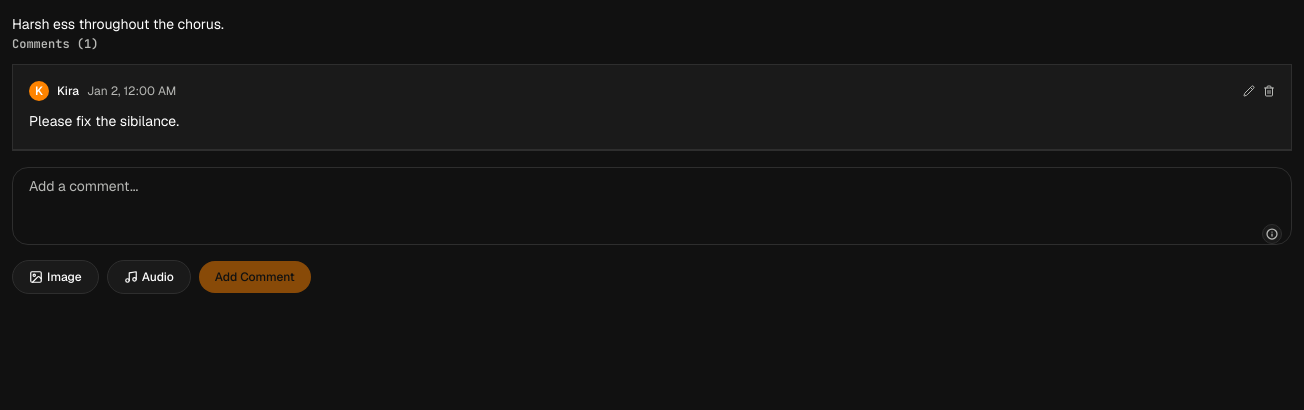
Test: IssueDetailContent › edits an own comment via commentApi.update
Click the button with class "ml-auto": coordinates (1249, 91) [1243,85,1255,97]
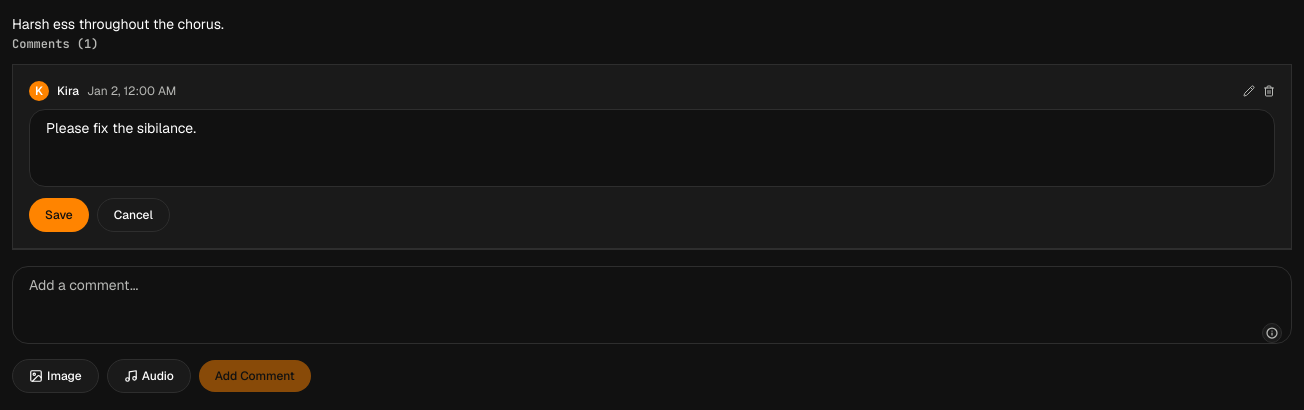
Check: the 1st text box is shown
Replace the text in the 1st text box with "Updated wording": coordinates (652, 148) [29,109,1275,187]
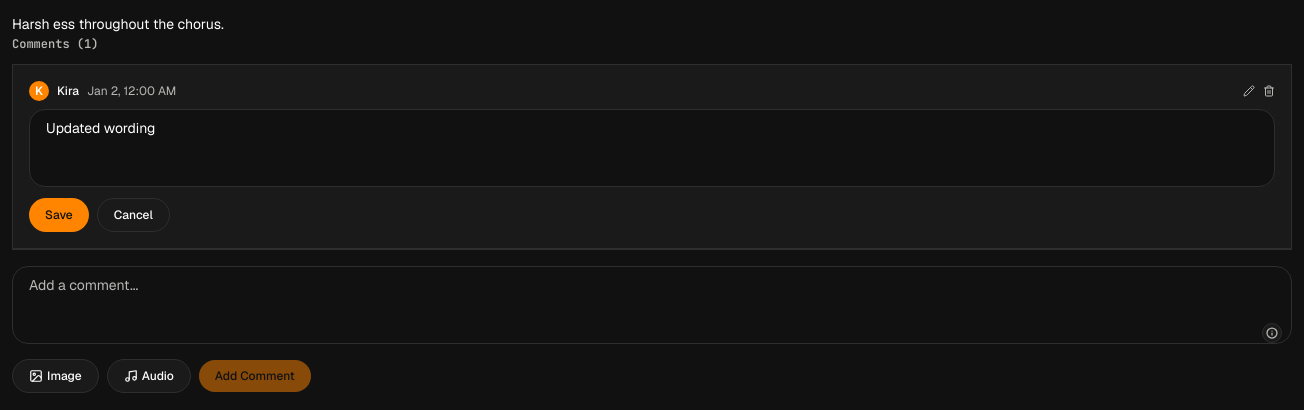
Click the button "Save": coordinates (59, 215) [29,198,89,232]
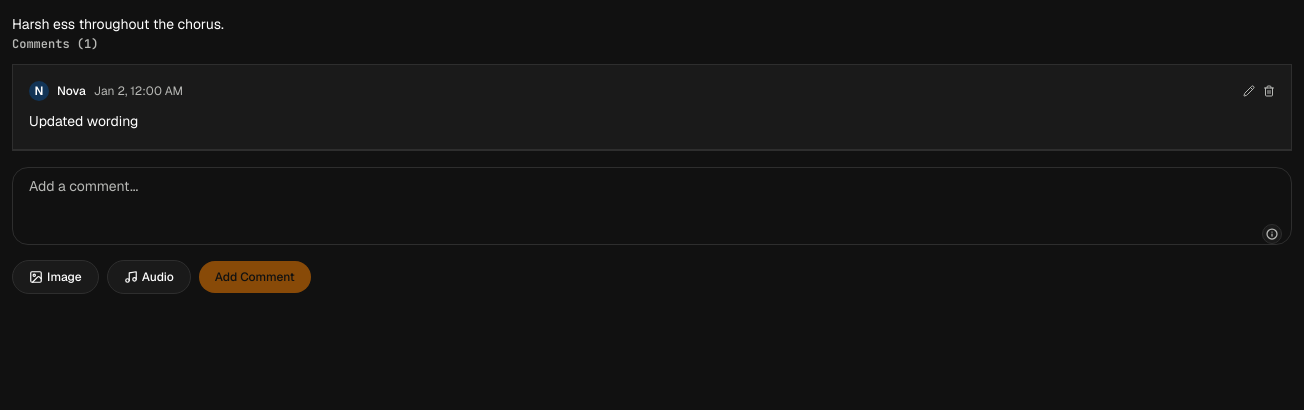
Check: the text "Updated wording" is shown, box [29,112,138,130]
